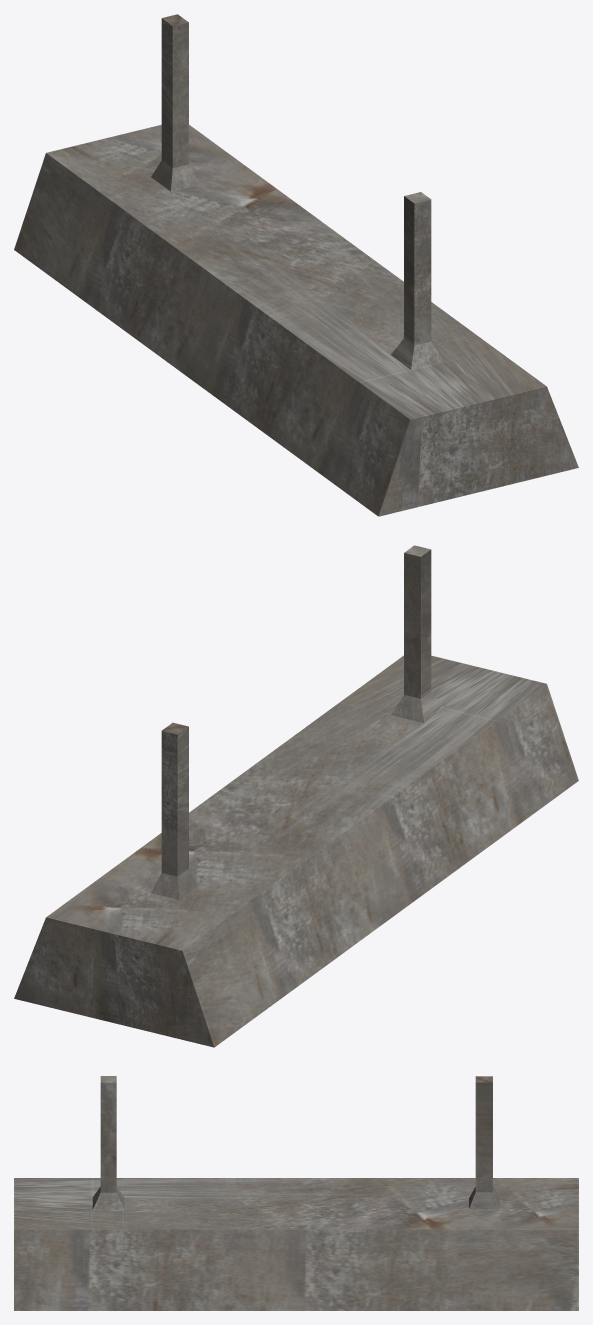
File: CeilingLight.fbx
The picture shows the model from 3 angles, top to bottom: view 1: azimuth 30°, elevation 25°; view 2: azimuth 150°, elevation 25°; view 3: azimuth 270°, elevation 25°; orthographic projection. The views are drawn at different scales.
Visible parts, largest first — view 1: Cube; view 2: Cube; view 3: Cube.
Part boxes in pixels (left/top/right/bottom): Cube: left=14, top=14, right=578, bottom=516; Cube: left=14, top=545, right=578, bottom=1047; Cube: left=14, top=1076, right=578, bottom=1310.
Bounding box in the file's own units: 6303 × 7509 × 19862.
Materials: 1 (1 with a texture image).
